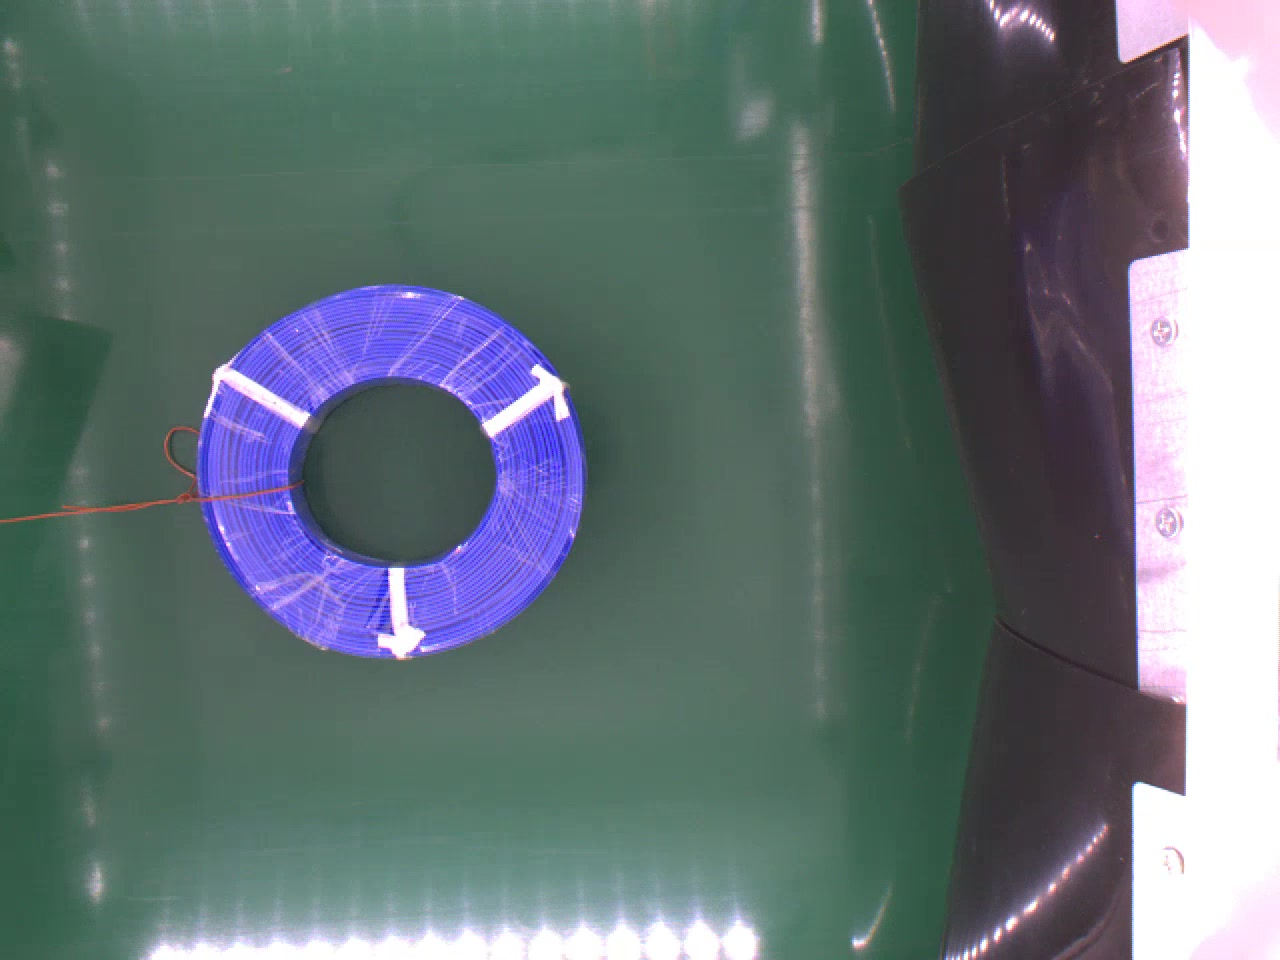blue: (191, 281, 586, 661)
